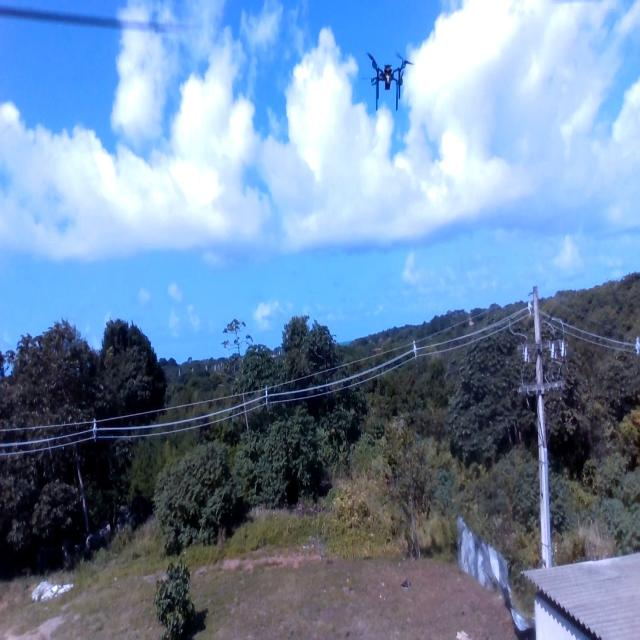-uav-: (361, 40, 419, 119)
